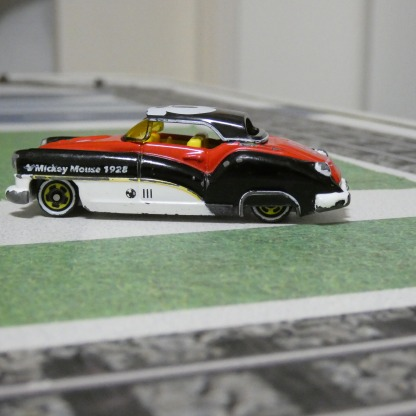car: (4, 108, 347, 221)
